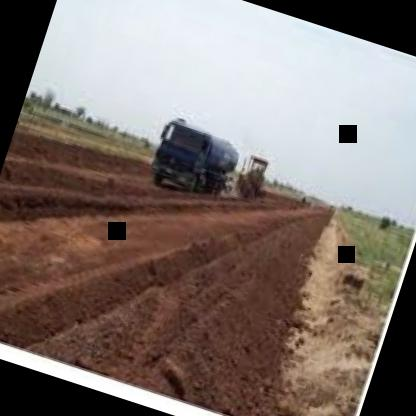car: (136, 88, 262, 216)
